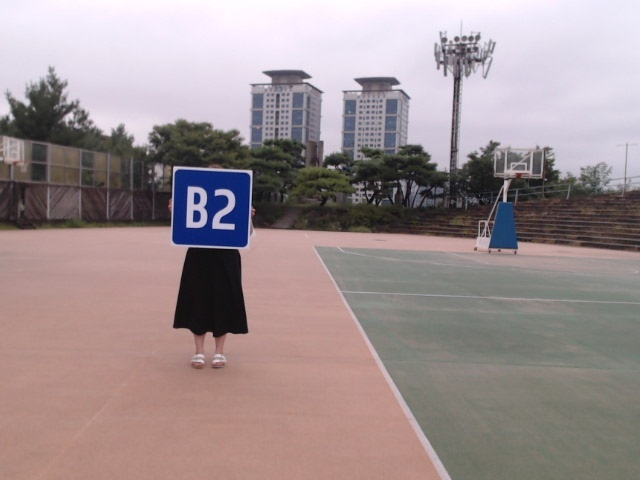delivery_b2: (170, 170, 253, 248)
